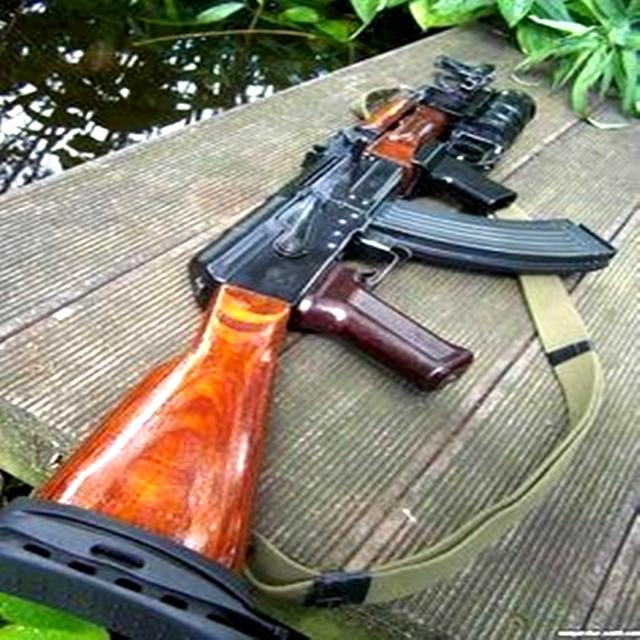ak: (10, 39, 617, 619)
